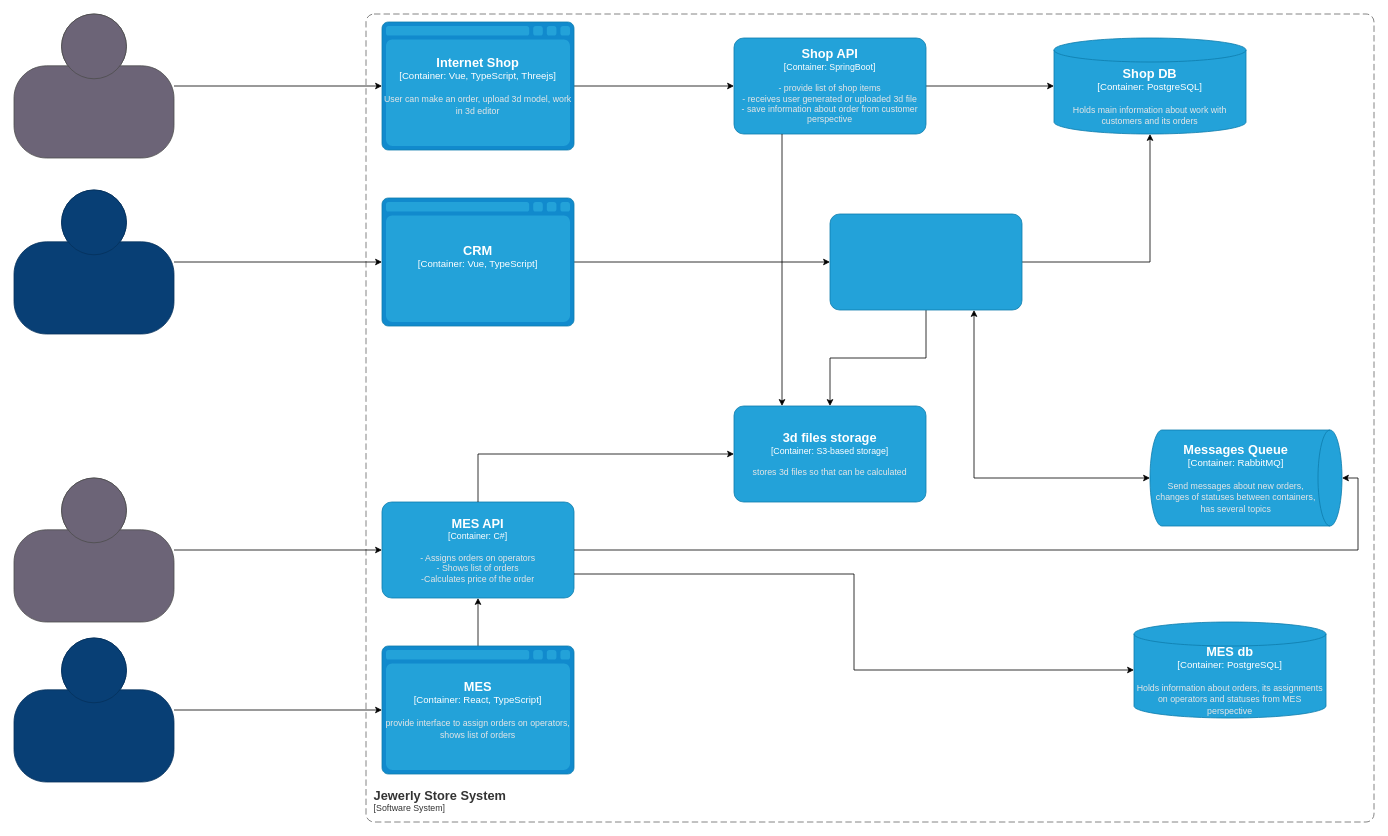
Image size: 1388x836. Some labels were removed from this diagram. The shapes that lost their labels are listed below. From the top down, each one's centre as x and y in pixels, then its label:
At (x=93, y=85): "Customer [Person]".
At (x=93, y=261): "Seller [Person] Operates with order, confirms manufacturing for the user".
At (x=925, y=261): "CRM API [Container: SpringBoot]".
At (x=93, y=549): "API user [Person]".
At (x=93, y=709): "Operator [Person] Takes order in work, manufactures jewerly".
